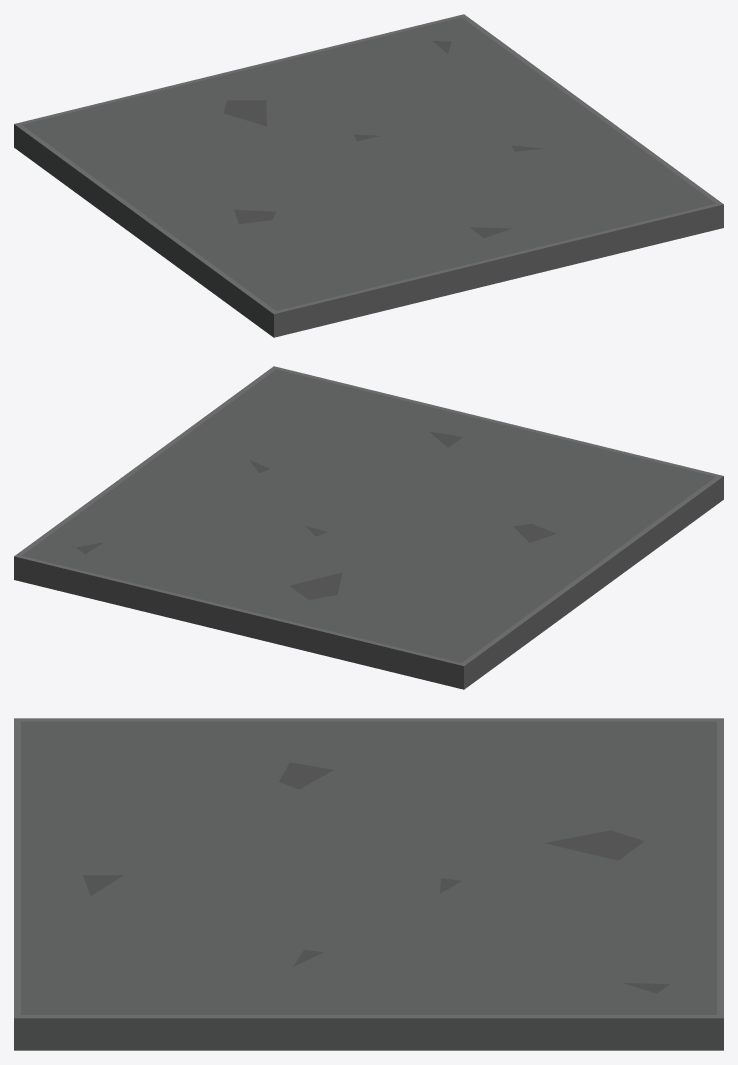
The model's file is ConcrateSlabs_B_1_2.obj.
3 renders of one model, top to bottom at view 1: azimuth 30°, elevation 25°; view 2: azimuth 150°, elevation 25°; view 3: azimuth 270°, elevation 25°, orthographic. The views are drawn at different scales.
Parts seen in each view (by area): view 1: ConcrateSlabs_B_1_2; view 2: ConcrateSlabs_B_1_2; view 3: ConcrateSlabs_B_1_2.
Boxes of the visible parts, x1,y1,x2,y2 form: ConcrateSlabs_B_1_2: (14,14,723,337); ConcrateSlabs_B_1_2: (14,366,723,689); ConcrateSlabs_B_1_2: (14,718,723,1050).
Size of the model in its own units: 8 by 0.4 by 8.
